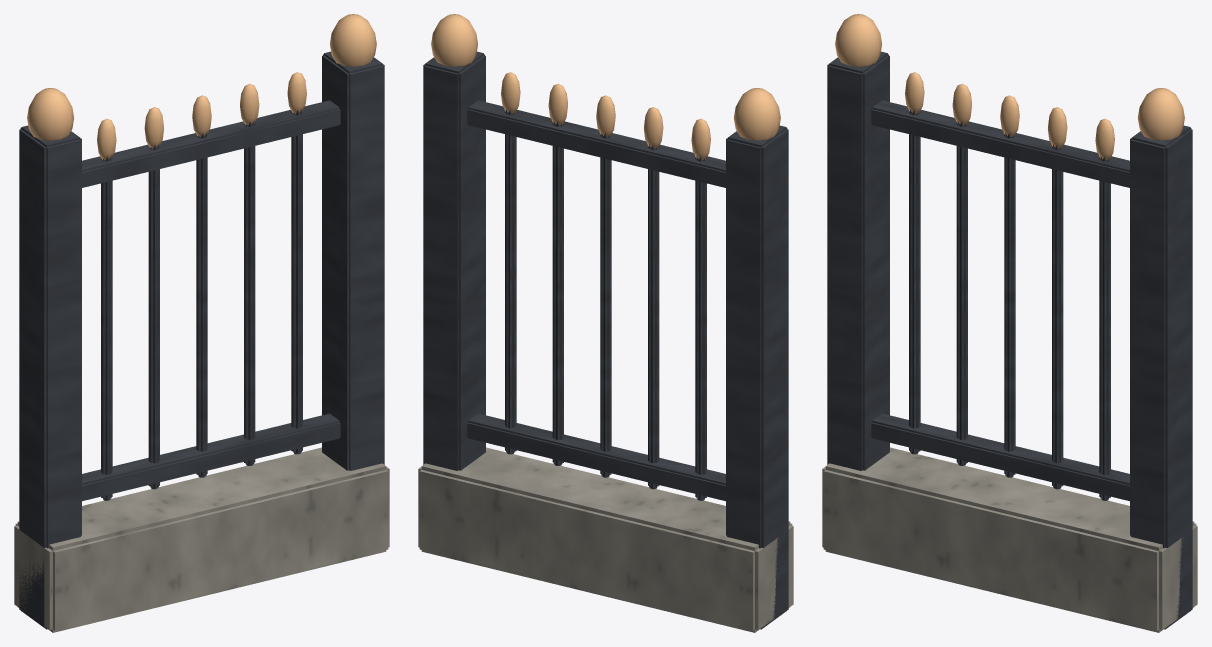
Rendered from fence_ornate.glb.
The picture shows the model from 3 angles, left to right: view 1: azimuth 30°, elevation 25°; view 2: azimuth 150°, elevation 25°; view 3: azimuth 330°, elevation 25°; orthographic projection.
Parts seen in each view (by area): view 1: fence_ornate; view 2: fence_ornate; view 3: fence_ornate.
Part boxes in pixels (bbox=[...]): fence_ornate: bbox=[14, 14, 389, 632]; fence_ornate: bbox=[418, 14, 793, 632]; fence_ornate: bbox=[822, 14, 1197, 632].
Size of the model in its own units: 1.01 by 1.48 by 0.2.
3 materials, 2 textured.
